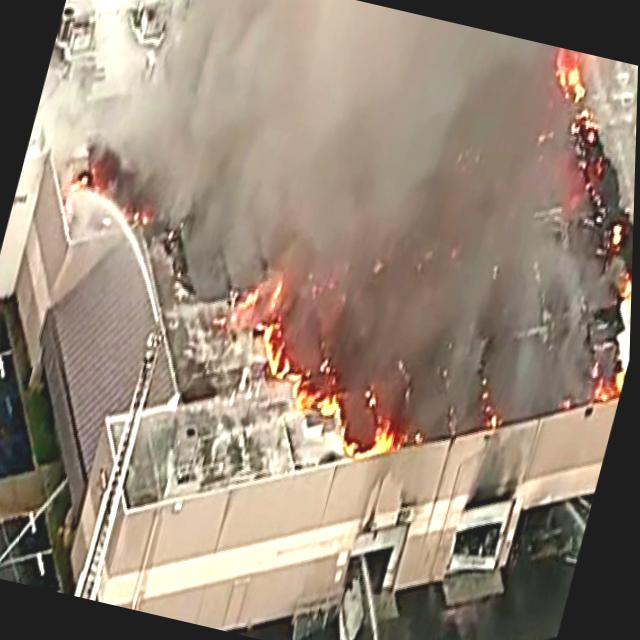smoke: (263, 0, 640, 171)
